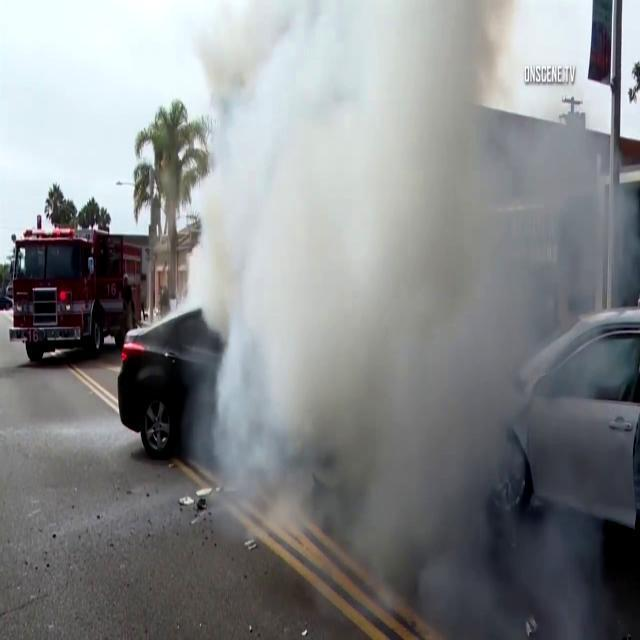Smoke: (143, 0, 614, 640)
